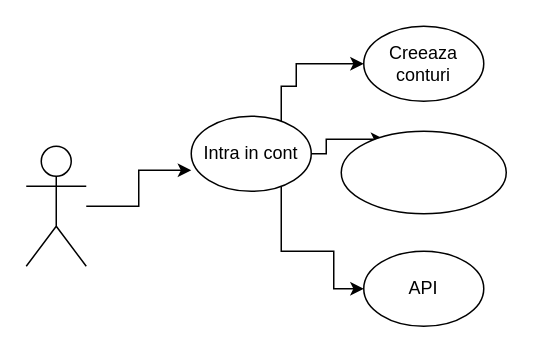
Image size: 533x353. Some labels were removed from this diagram. Here are the shapes that lost their labels. From the top down, the box of each, then its label:
(340, 130, 506, 214): Actualizeaza informatiile primite de la soferi
(25, 145, 86, 266): Admin
